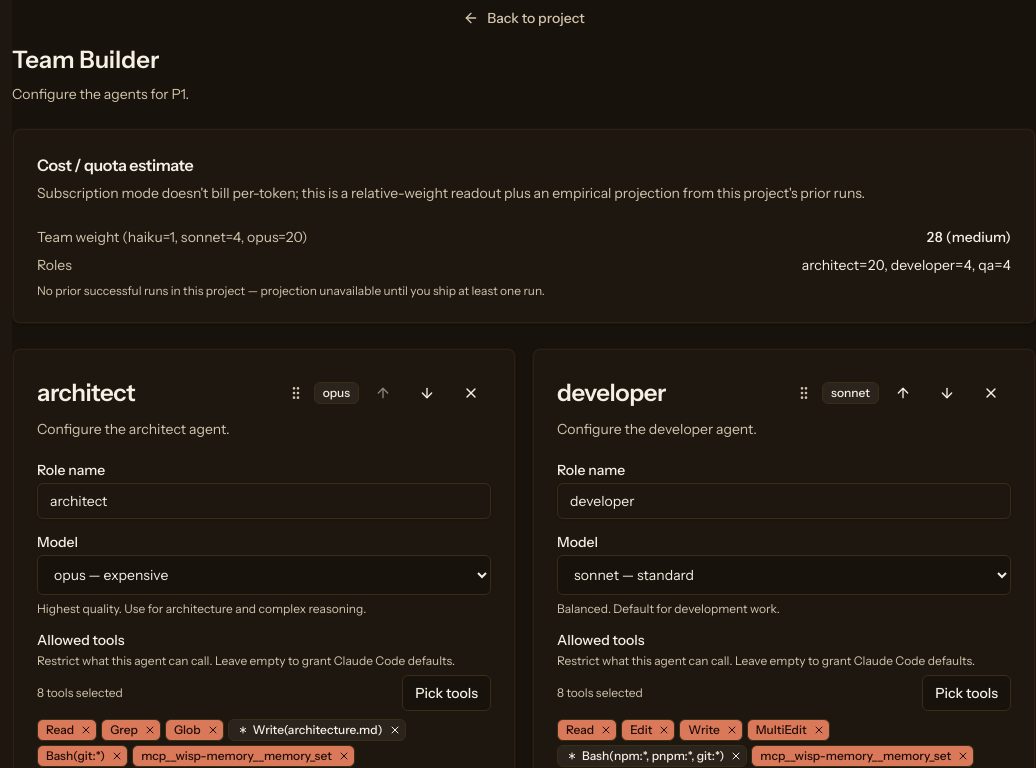
Test case: TeamBuilder › remove button removes the card and is disabled when only one role remains
The image size is (1036, 768).
Expected: the text "opus" is shown, x1=314 y1=382 x2=359 y2=404
Click the button with test id "remove-architect": (471, 393) x1=451 y1=373 x2=491 y2=413
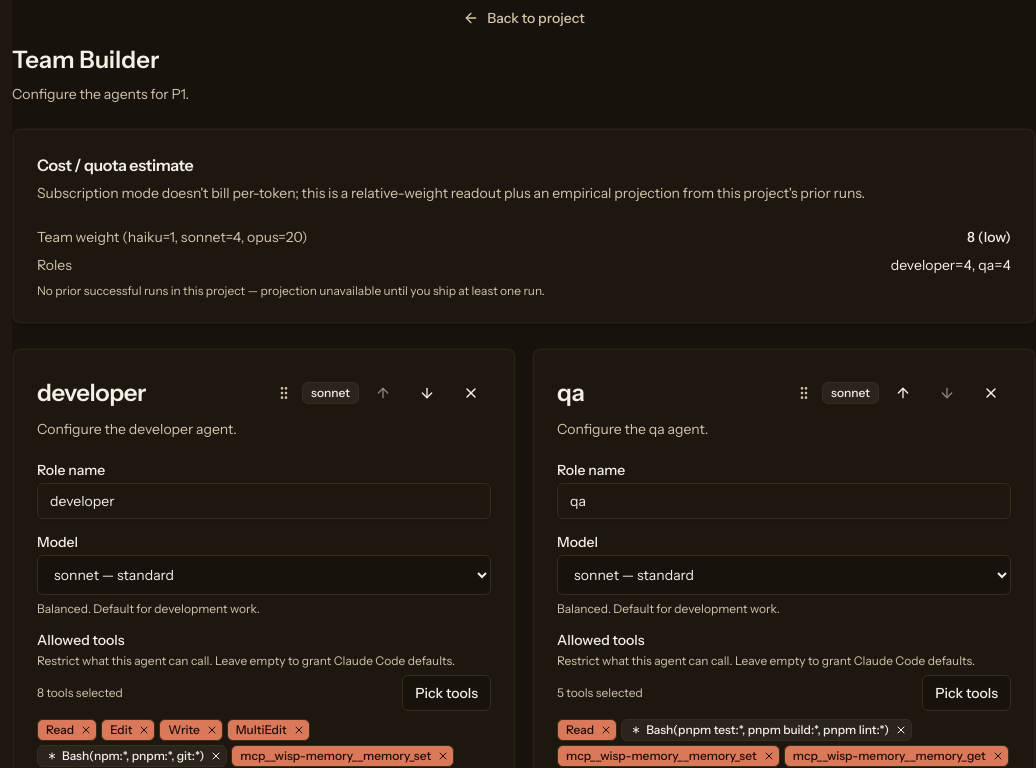
Now the text with test id "badge-architect" is gone
Note: Remove until one left.
Click the button with test id "remove-developer": (471, 393) x1=451 y1=373 x2=491 y2=413
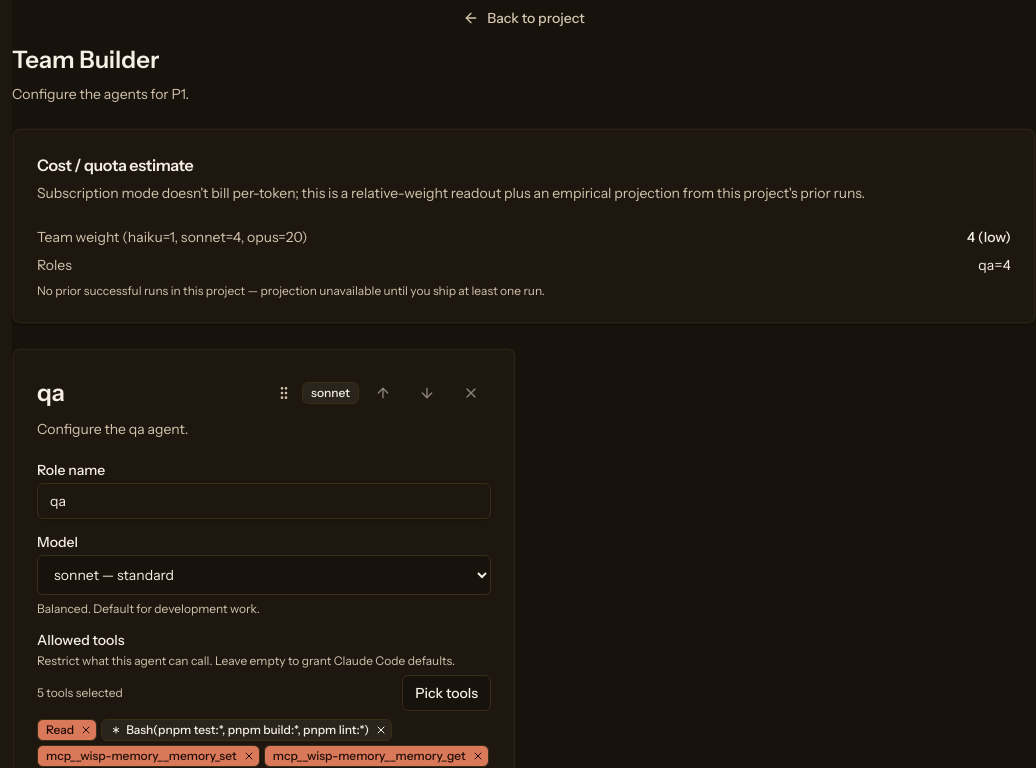
Now the button with test id "remove-qa" is disabled, box x1=451 y1=373 x2=491 y2=413
